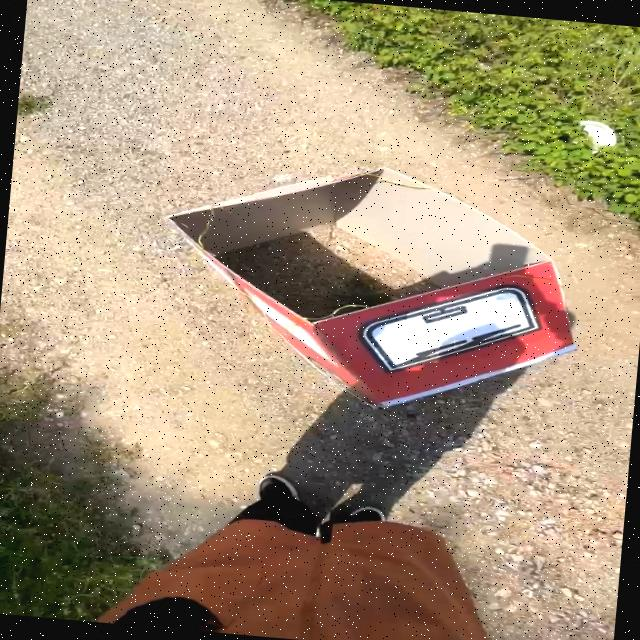red_car: (115, 123, 640, 442)
